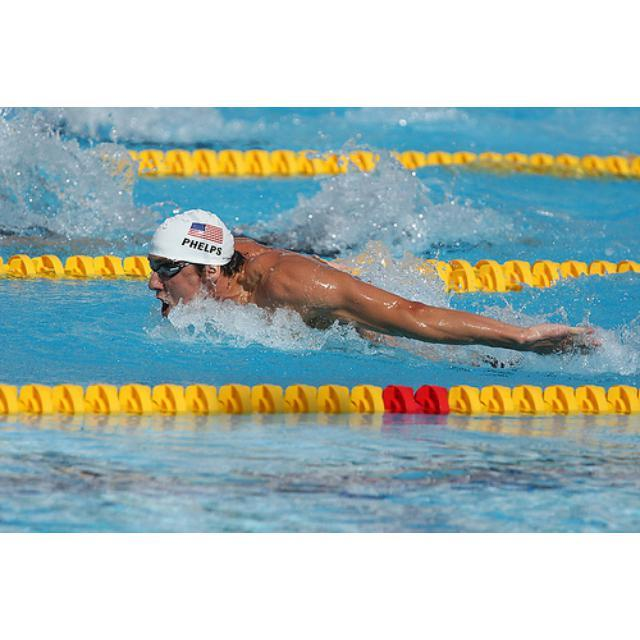human: (145, 204, 600, 362)
